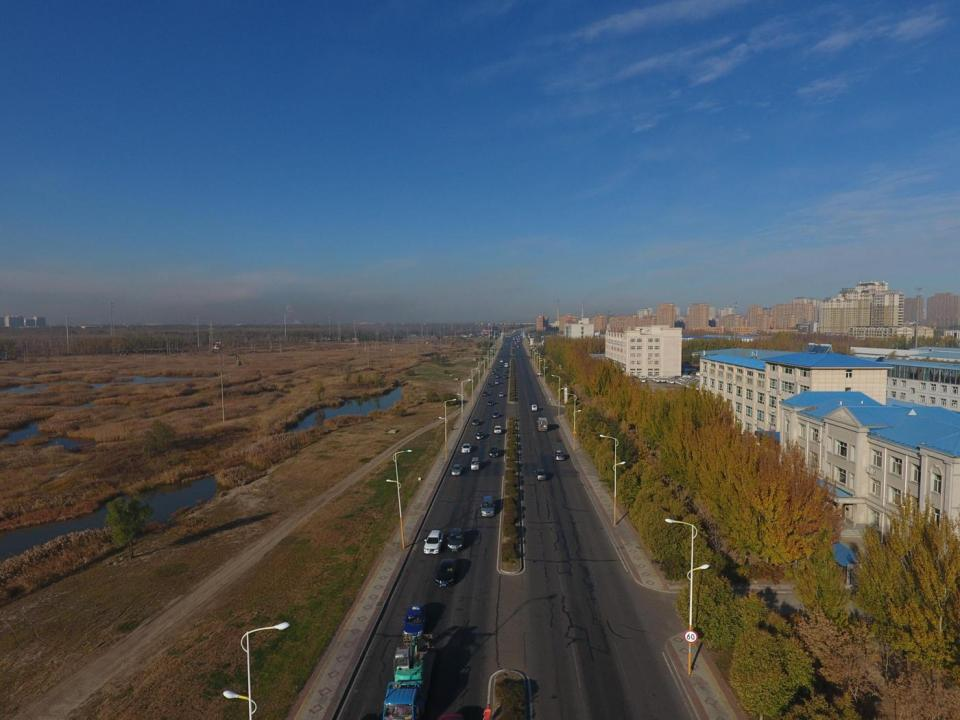bus: (505, 362, 508, 368)
car: (403, 604, 426, 641), (435, 558, 458, 588), (423, 529, 444, 555), (448, 527, 464, 552), (533, 468, 546, 481), (553, 449, 565, 462), (488, 445, 499, 459), (452, 464, 463, 477), (461, 442, 472, 454), (475, 430, 485, 441), (493, 424, 503, 435), (472, 417, 480, 426), (486, 398, 494, 406), (492, 412, 500, 418), (482, 391, 490, 397), (537, 371, 545, 376), (499, 392, 504, 397), (487, 382, 492, 387), (502, 374, 507, 378), (496, 373, 500, 378), (504, 369, 508, 372), (499, 364, 502, 368), (500, 359, 503, 363), (492, 371, 495, 374), (494, 368, 498, 370), (505, 343, 508, 345), (516, 346, 518, 348)
truck: (382, 634, 439, 720), (537, 417, 548, 431), (513, 340, 516, 343), (516, 340, 519, 342), (514, 343, 516, 345)
van: (480, 495, 496, 516), (470, 457, 481, 470), (532, 404, 538, 411), (495, 380, 499, 385)
